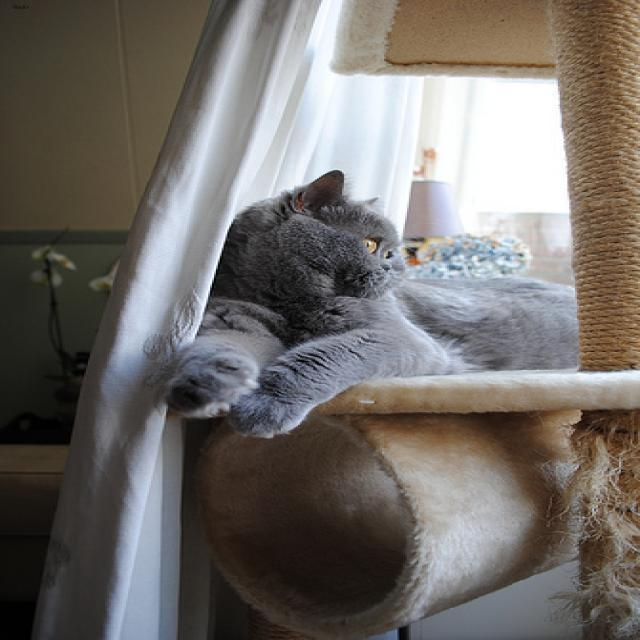British_Shorthair: (226, 168, 404, 314)
